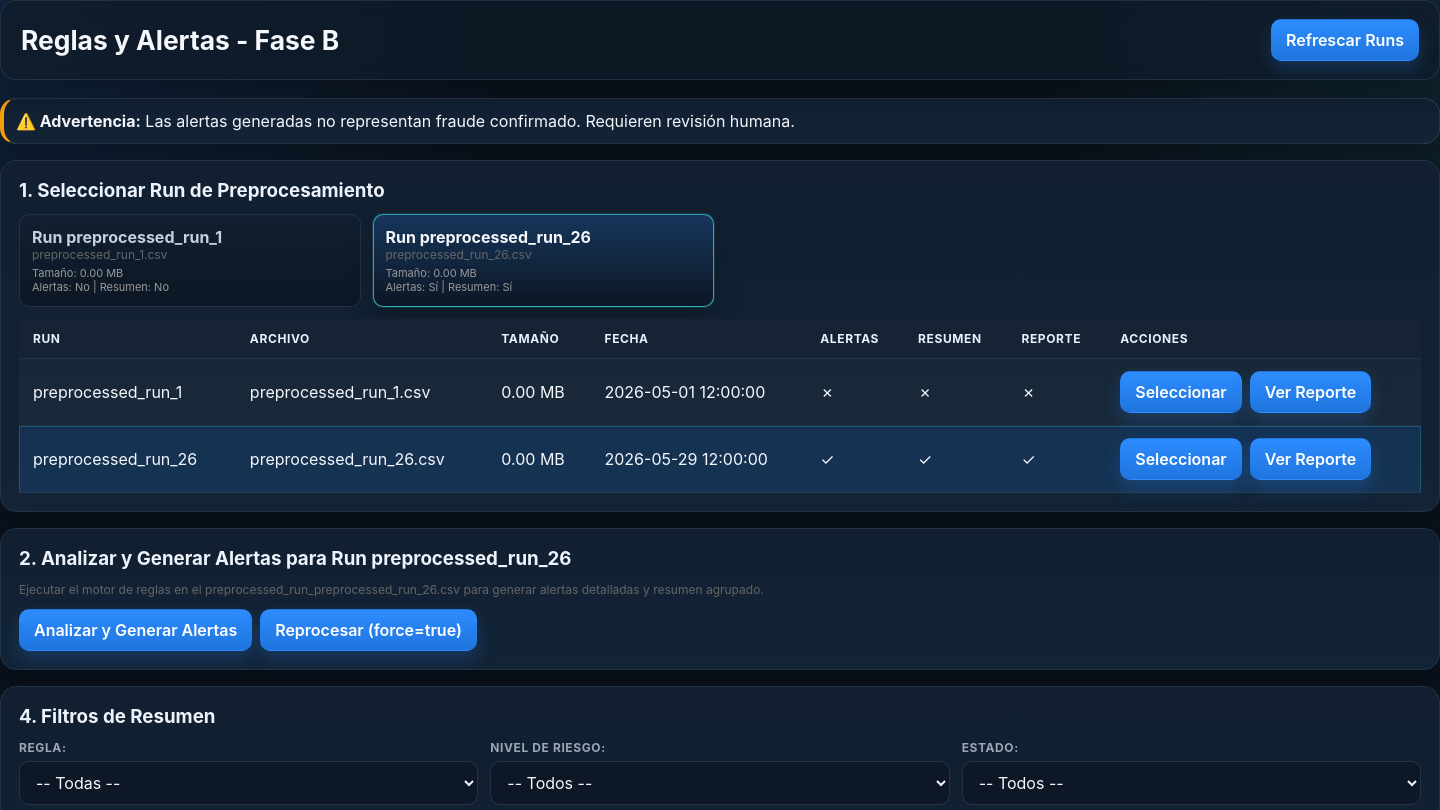
Test case: RulesAlerts page › shows no disponible when customer card mapping is missing
This screenshot has width=1440, height=810.
Click the button "Analizar y Generar Alertas": (136, 630) [19,609,252,651]
(page scrolled)
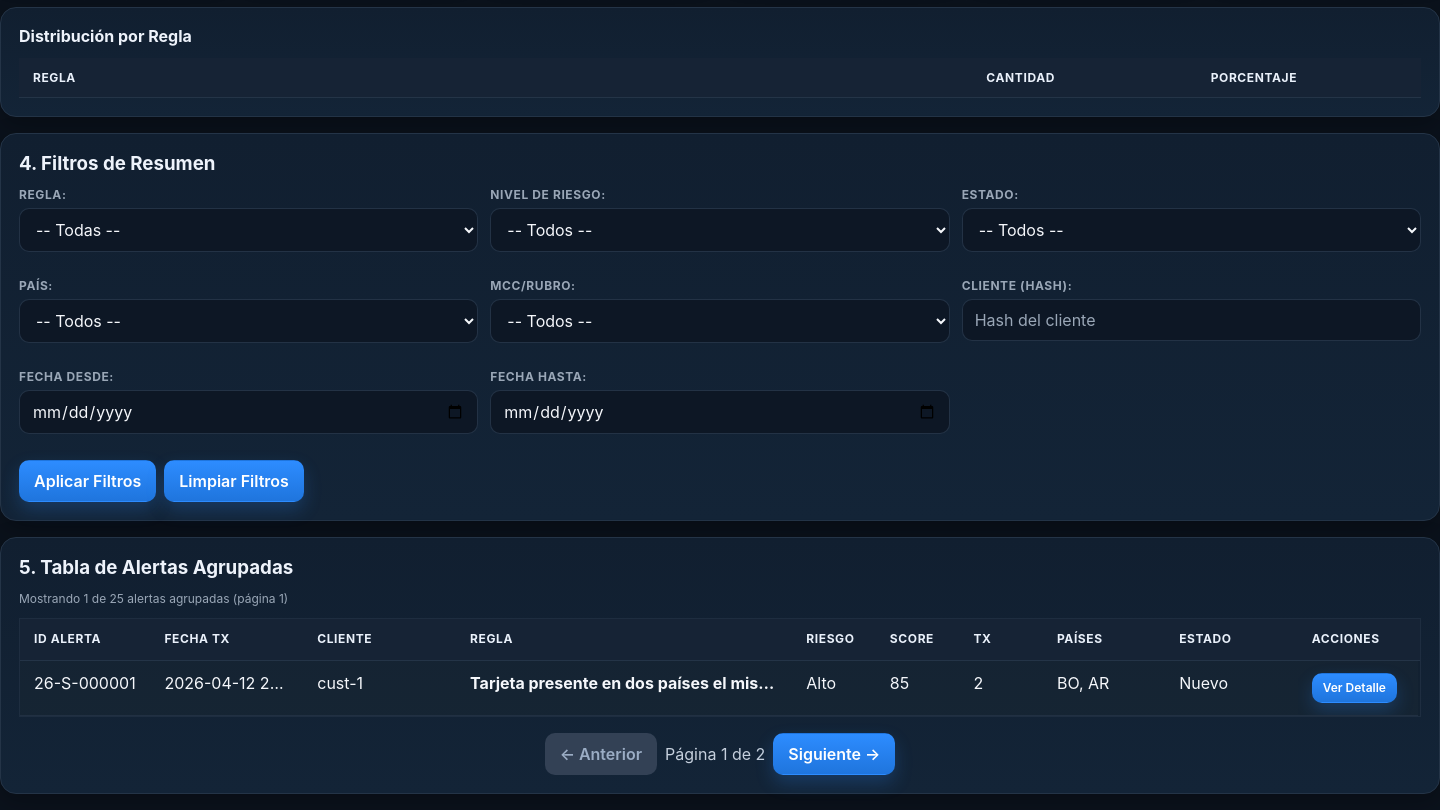
Expected: the button "Ver Detalle" is shown
Click the button "Ver Detalle": (1354, 688) [1312,673,1397,703]
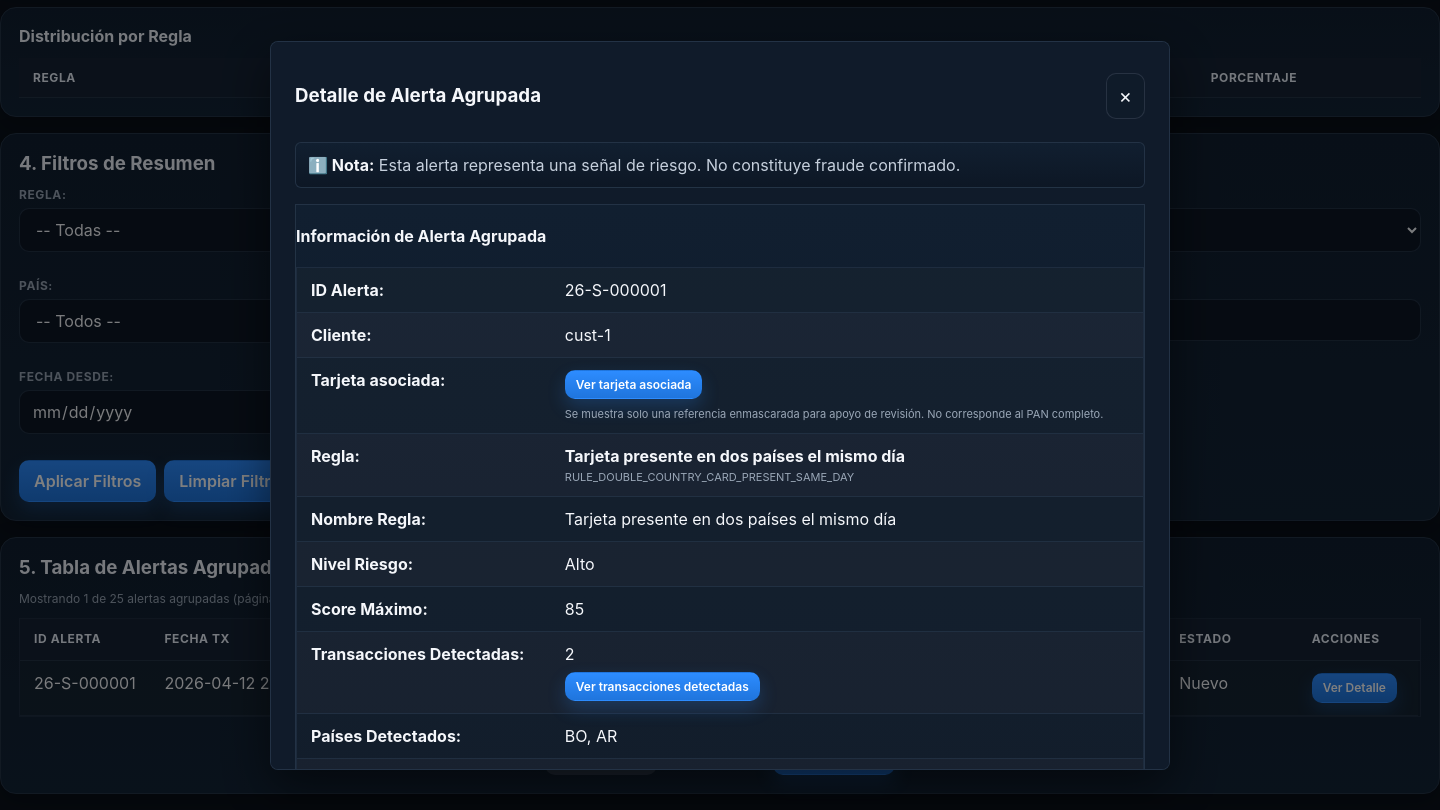
Click the button "Ver tarjeta asociada": (634, 385) [565,370,702,400]
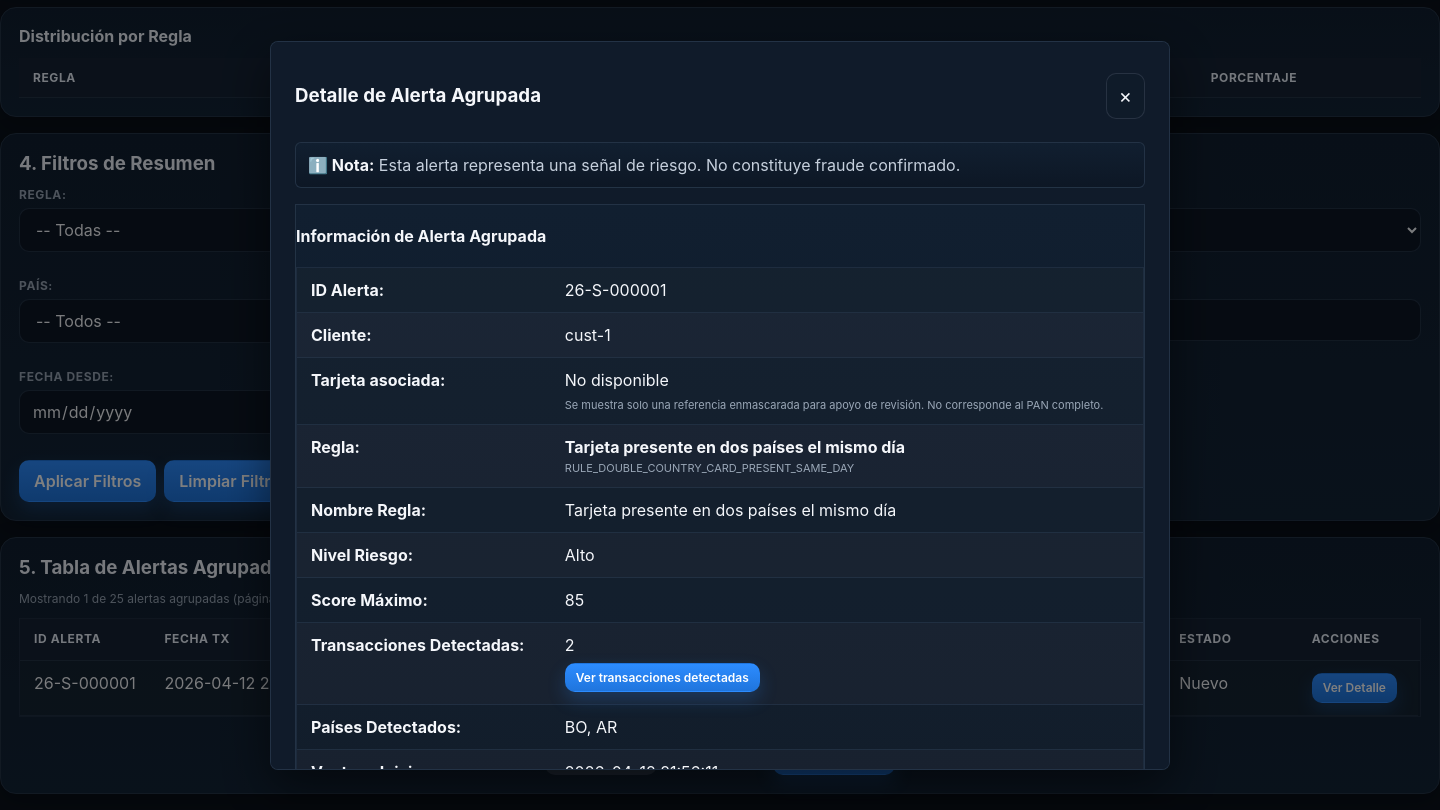
Expected: the text "No disponible" is shown, [565,370,669,390]
